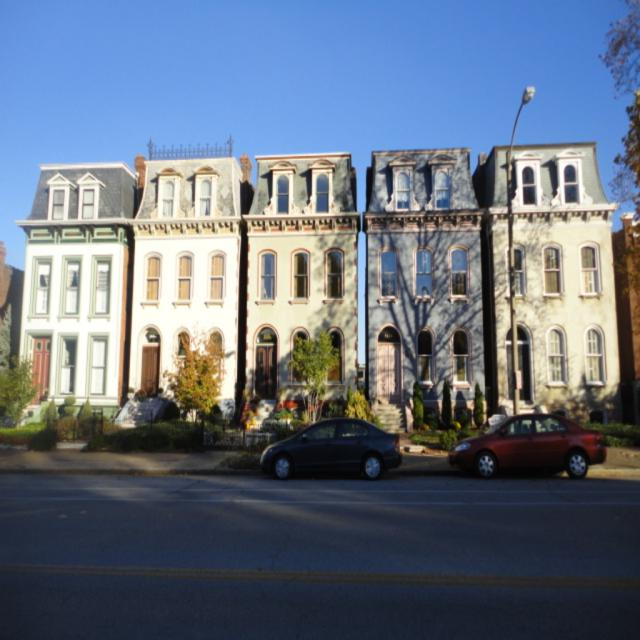car: (444, 409, 604, 476), (258, 415, 401, 476)
